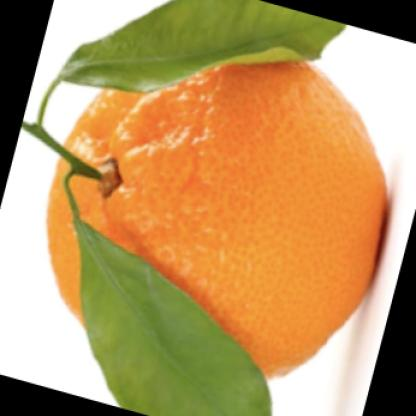fresh: (44, 35, 390, 390)
